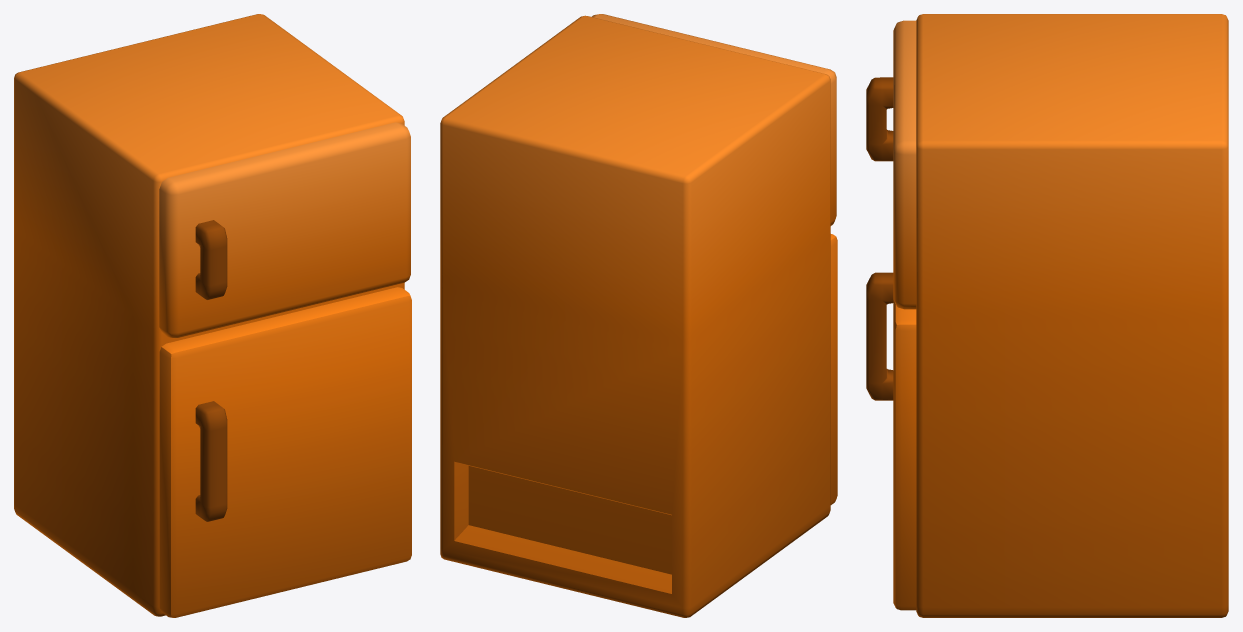
File: Refrigerator_01_C03.fbx
3 views of the same model, side by side, from view 1: azimuth 30°, elevation 25°; view 2: azimuth 150°, elevation 25°; view 3: azimuth 270°, elevation 25° (orthographic). The views are drawn at different scales.
Visible parts, largest first — view 1: Refrigerator_01_C03, Refrigerator_01_C03_Door_L, Refrigerator_01_C03_Door_U; view 2: Refrigerator_01_C03, Refrigerator_01_C03_Door_U, Refrigerator_01_C03_Door_L; view 3: Refrigerator_01_C03, Refrigerator_01_C03_Door_L, Refrigerator_01_C03_Door_U.
Part boxes in pixels (x1,y1,x2,y2): Refrigerator_01_C03: (14,14,404,616); Refrigerator_01_C03_Door_L: (159,287,411,617); Refrigerator_01_C03_Door_U: (159,122,410,338); Refrigerator_01_C03: (440,15,830,617); Refrigerator_01_C03_Door_U: (591,14,836,225); Refrigerator_01_C03_Door_L: (830,234,837,504); Refrigerator_01_C03: (916,14,1228,617); Refrigerator_01_C03_Door_L: (866,272,916,610); Refrigerator_01_C03_Door_U: (866,20,916,309).
Size of the model in its own units: 100 by 169 by 116.
